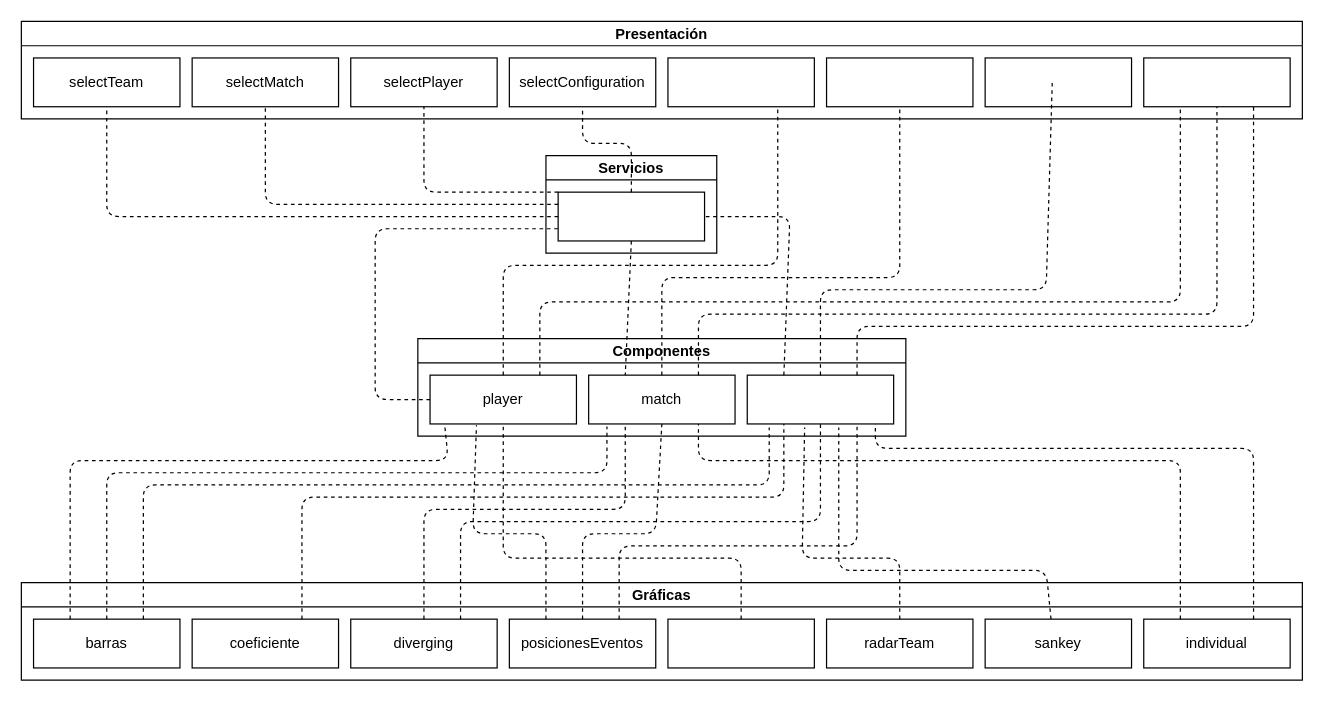
The diagram is 1324 pixels wide and 702 high, and some of its shapes have lost their labels. Here are the shapes that lost their labels. From the top down, the centre of each, then its label:
At [740,82]: "playerDetail".
At [899,82]: "matchDetail".
At [1058,82]: "teamDetail".
At [1216,82]: "configurationDetail".
At [631,216]: "ApiService".
At [820,399]: "team".
At [740,643]: "radarPlayer".
